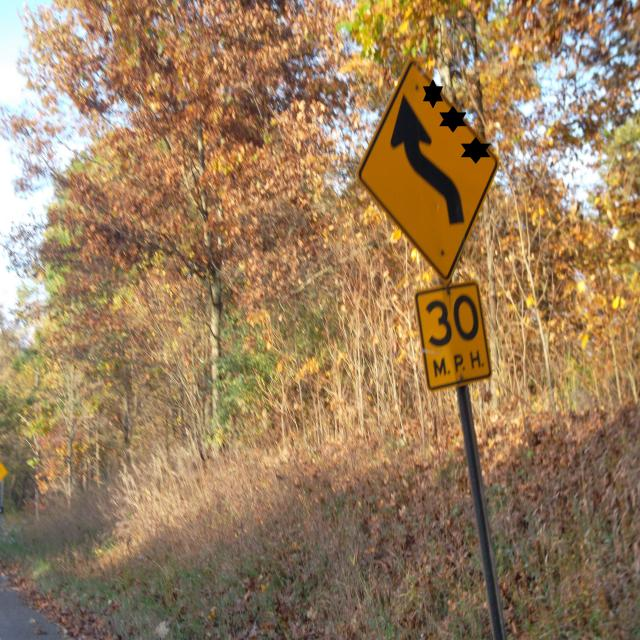warning: (360, 61, 501, 282)
